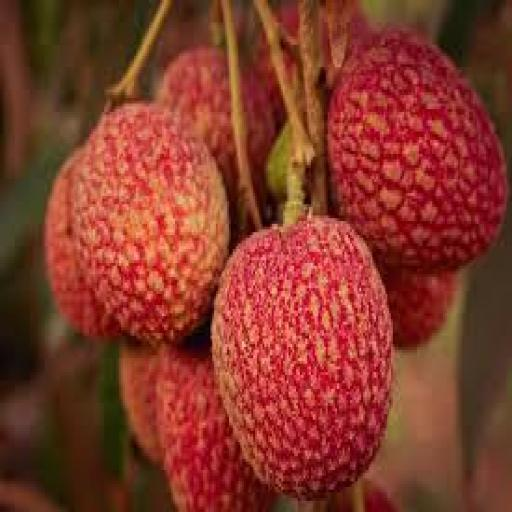lychee: (213, 219, 392, 498), (328, 31, 506, 271), (73, 104, 229, 341), (157, 345, 271, 511), (45, 149, 119, 338), (157, 48, 238, 204), (382, 269, 458, 346), (120, 345, 160, 461), (256, 37, 286, 128), (362, 479, 396, 511)
